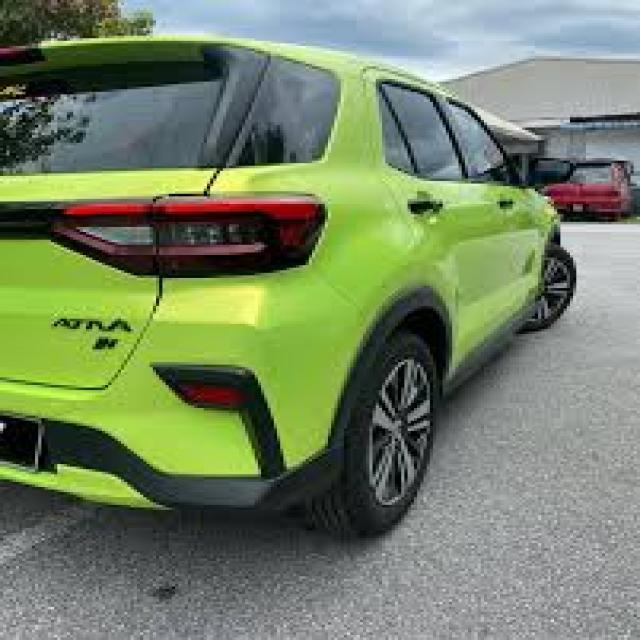PeroduaAtiva: (0, 32, 575, 540)
